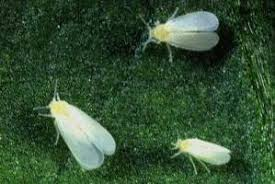Tobacco Whitefly: (41, 91, 116, 176), (142, 11, 222, 61), (172, 138, 233, 170)
